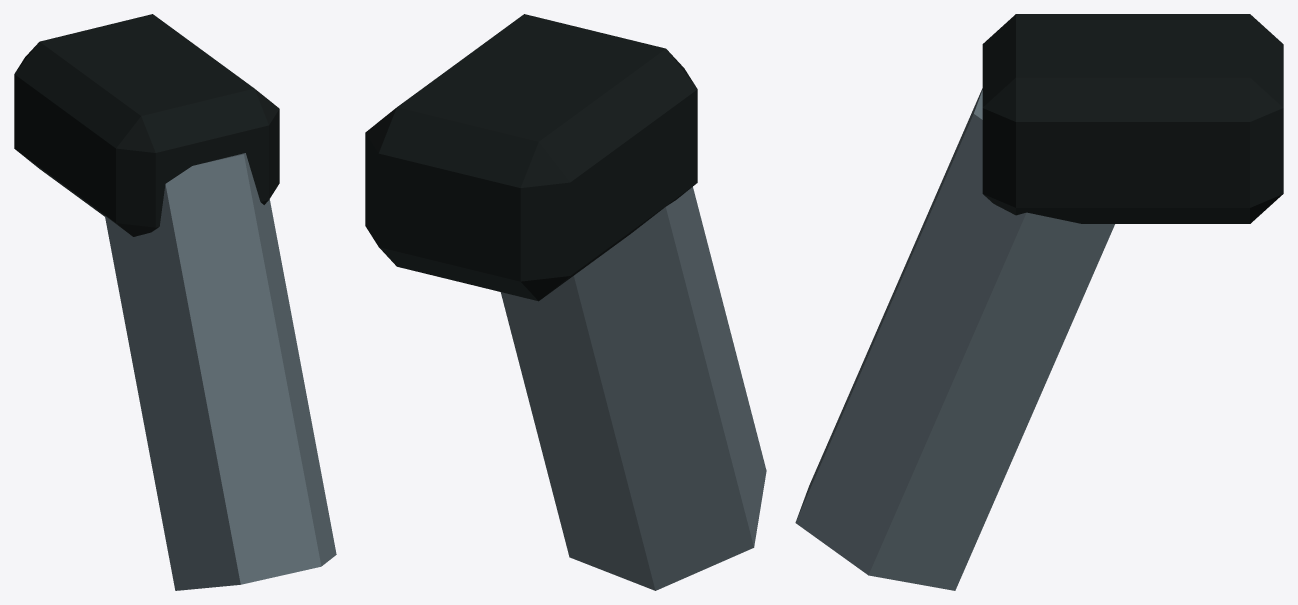
Rendered from Hammer.glb.
The picture shows the model from 3 angles, left to right: view 1: azimuth 30°, elevation 25°; view 2: azimuth 150°, elevation 25°; view 3: azimuth 270°, elevation 25°; orthographic projection. The views are drawn at different scales.
Parts seen in each view (by area): view 1: Sculpture; view 2: Sculpture; view 3: Sculpture.
Boxes of the visible parts, x1=… form: Sculpture: x1=14, y1=14, x2=336, y2=590; Sculpture: x1=365, y1=14, x2=766, y2=590; Sculpture: x1=795, y1=14, x2=1283, y2=590.
Bounding box in the file's own units: 0.039 × 0.1037 × 0.0876.
